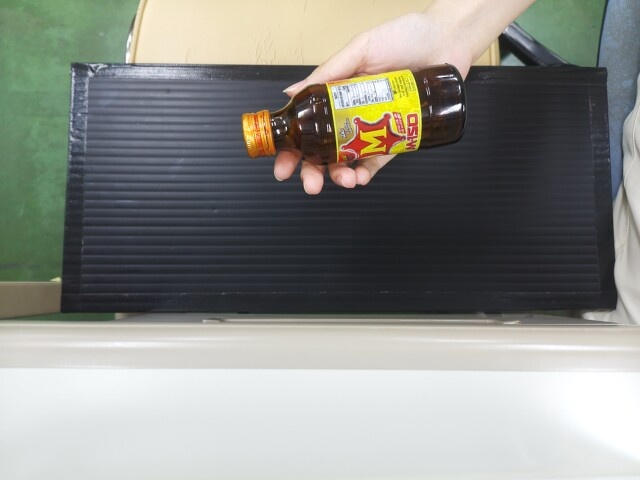glass_bottle: (237, 74, 464, 151)
